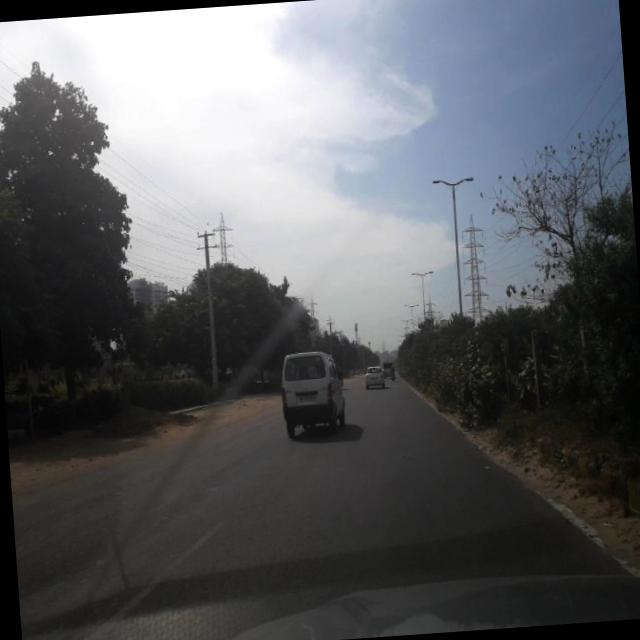crack: (122, 428, 550, 632)
